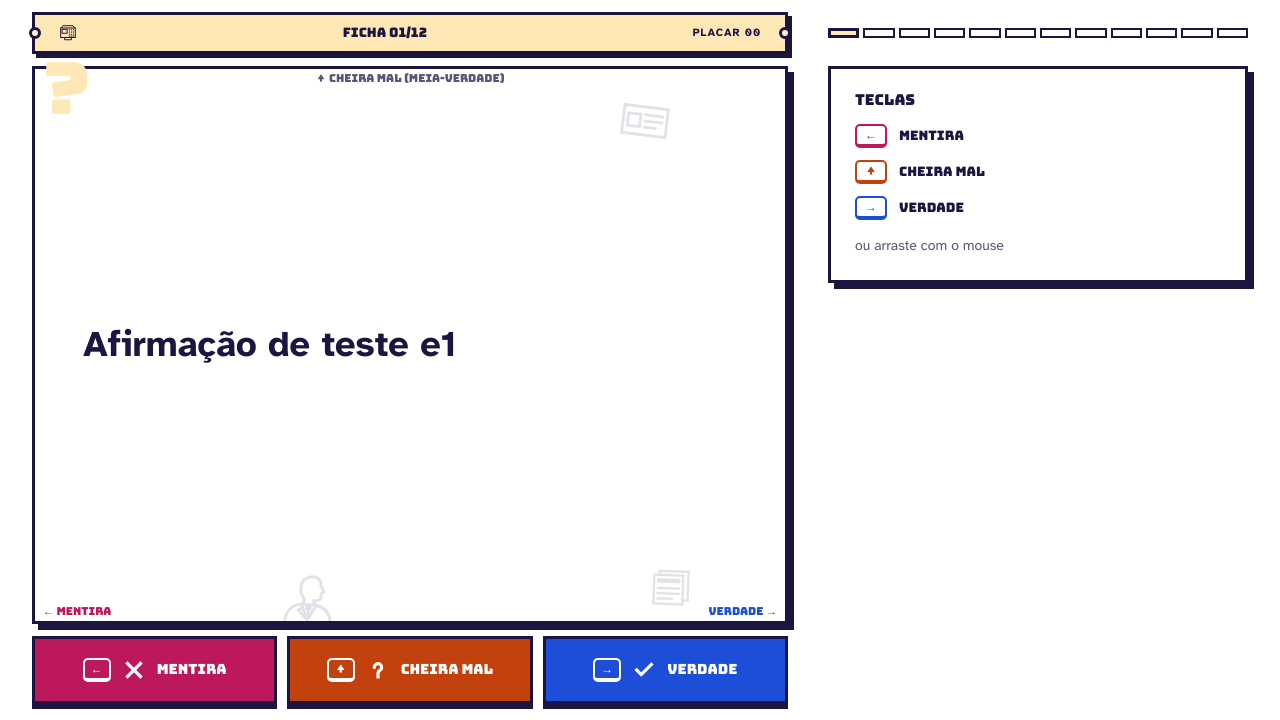
Test: Quiz › setas do teclado respondem só na pergunta
Press ArrowDown
Press ArrowLeft
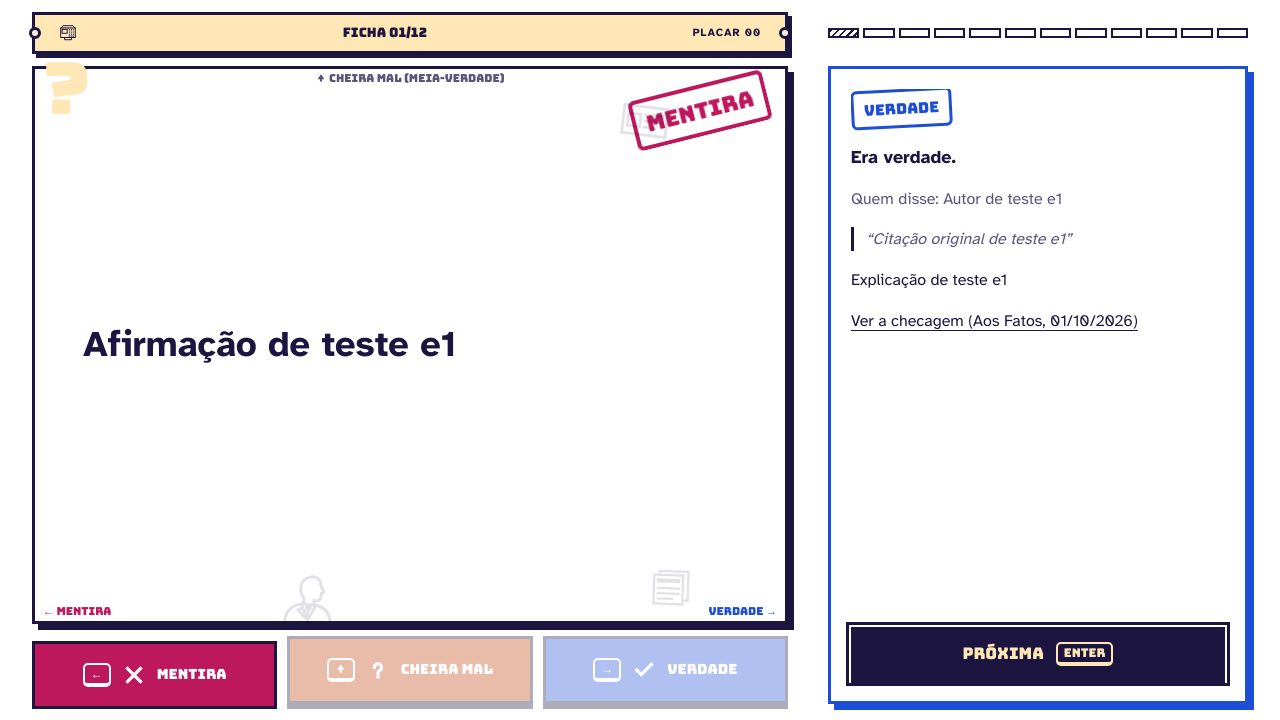
Result: the text "Era verdade." is shown at [851,146,956,168]
Painel aberto: setas não respondem de novo.
Press ArrowRight
Expected: the text "Placar 00" is shown, [693,26,761,38]
Result: the text "Era verdade." is shown at [851,146,956,168]
Click the button "Próxima Enter" at (1038, 654), box [851,627,1225,681]
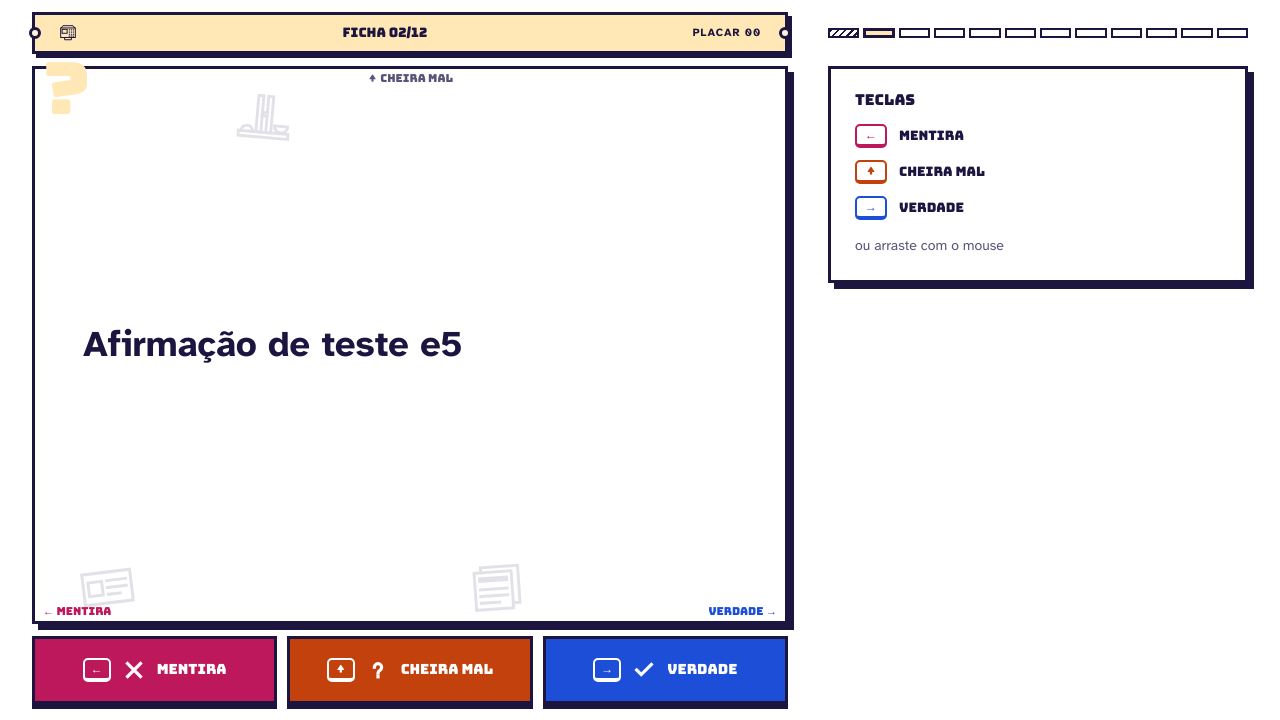
Press ArrowUp
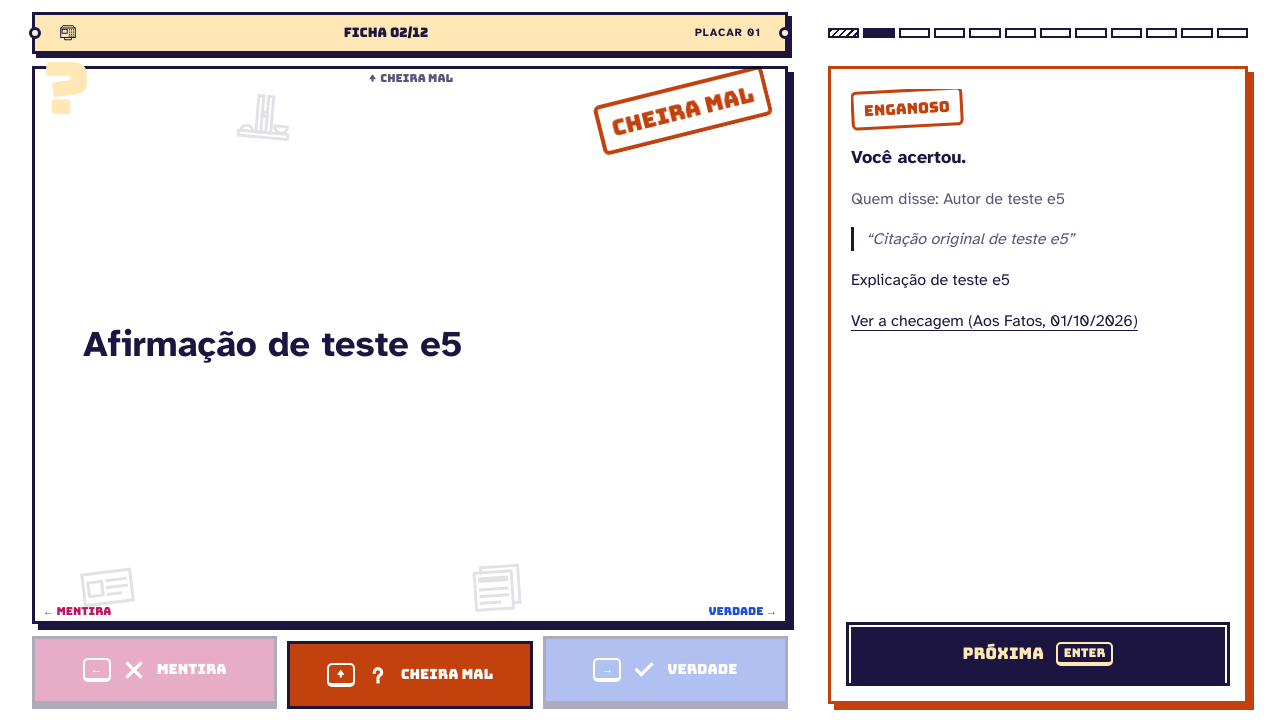
Result: the text "Você acertou." is shown at [851,146,966,168]
Click the button "Próxima Enter" at (1038, 654), box [851,627,1225,681]
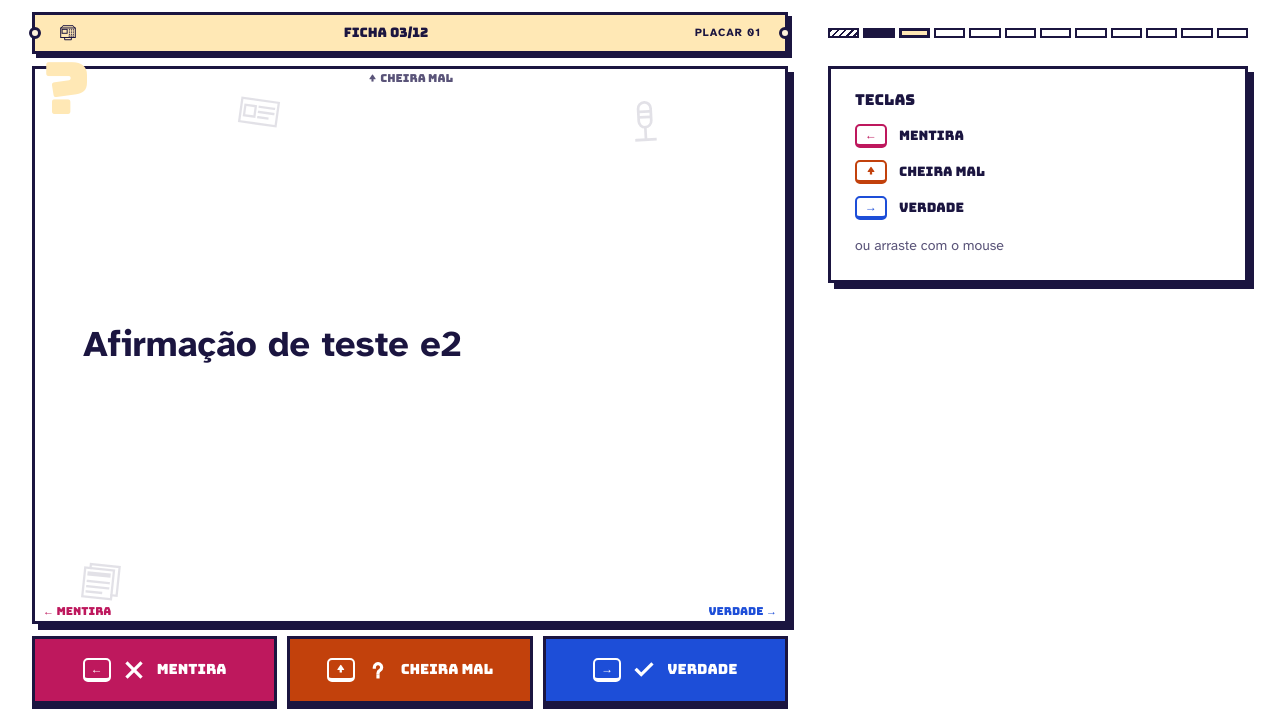
Press ArrowRight
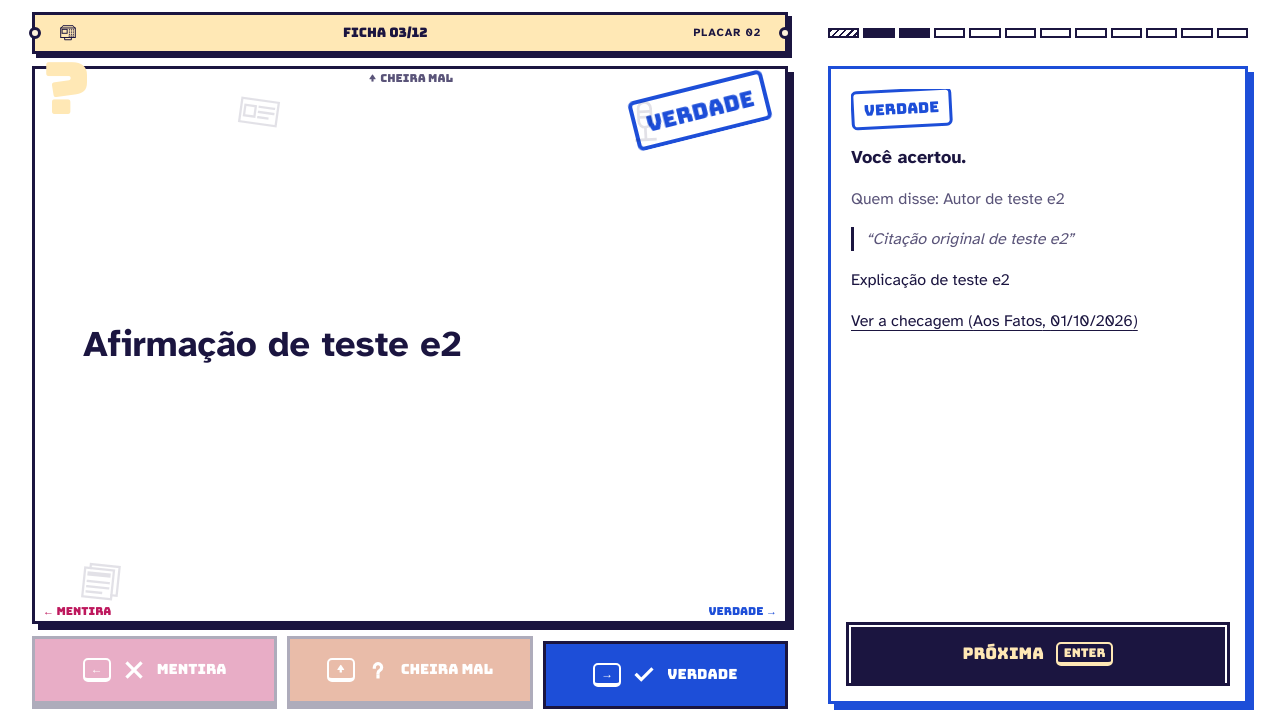
Result: the text "Placar 02" is shown at [694,26,761,38]
